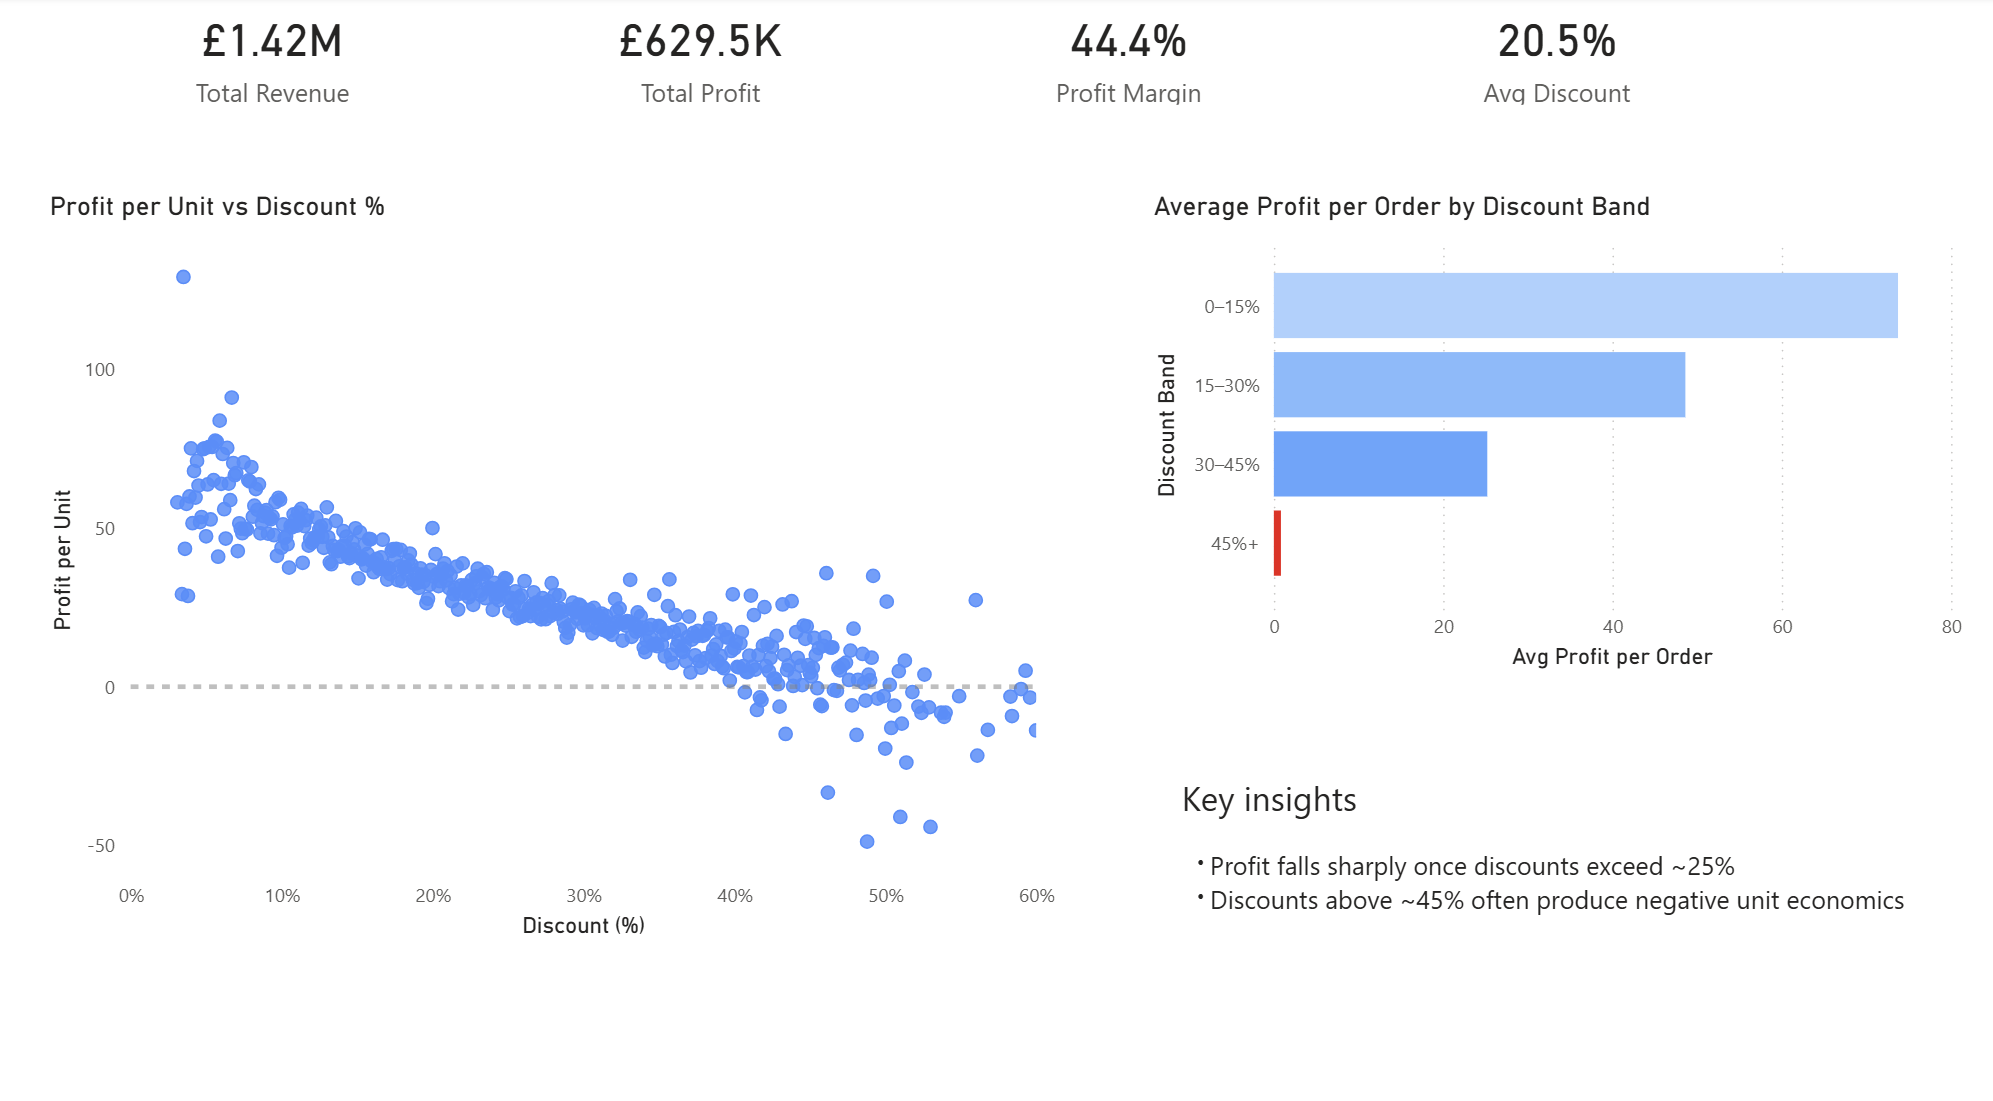

Layout of this report page (visuals, bound fields, positions):
{"tool":"powerbi","page":{"name":"Pricing Overview","canvas":[1280,720],"ordinal":0},"visuals":[{"type":"card","fields":{"Values":["df.Total Revenue"]},"box":[10.2,0,340,75.2],"z":0},{"type":"card","fields":{"Values":["df.Total Profit"]},"box":[283,0,340,75.2],"z":1000},{"type":"card","fields":{"Values":["df.Profit Margin"]},"box":[555.9,0,340,75.2],"z":2000},{"type":"card","fields":{"Values":["df.Avg Discount"]},"box":[828.7,0,340.4,75.2],"z":3000},{"type":"scatterChart","title":"Profit per Unit vs Discount %","fields":{"X":["df.discount_pct"],"Y":["df.Profit per Unit"]},"box":[33.7,125.6,650.7,480.8],"z":4000},{"type":"barChart","title":"Average Profit per Order by Discount Band","fields":{"Category":["df.Discount Band"],"Y":["df.Avg Profit per Order"]},"box":[736.5,125.6,525.2,309.3],"z":5000},{"type":"textbox","box":[754.7,492.1,525.3,172.1],"z":6000}]}

Visuals, with their boxes in screenshot pixels (x1, y1, x2, y2), scaled from the page's 1280x720 canvas onto the 1993x1101 screenshot:
card - df.Total Revenue: <bbox>16, 0, 545, 115</bbox>
card - df.Total Profit: <bbox>441, 0, 970, 115</bbox>
card - df.Profit Margin: <bbox>866, 0, 1395, 115</bbox>
card - df.Avg Discount: <bbox>1290, 0, 1820, 115</bbox>
"Profit per Unit vs Discount %" scatterChart: <bbox>52, 192, 1066, 927</bbox>
"Average Profit per Order by Discount Band" barChart: <bbox>1147, 192, 1965, 665</bbox>
textbox: <bbox>1175, 753, 1992, 1016</bbox>
